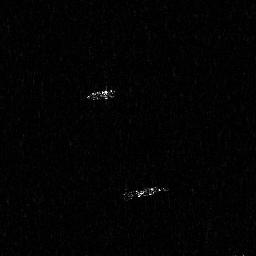ship: (120, 182, 171, 201), (84, 85, 117, 103)
